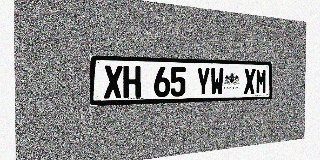5: (171, 67, 186, 97)
6: (154, 66, 170, 97)
H: (123, 66, 141, 98)
M: (256, 69, 267, 94)
W: (210, 68, 224, 96)
X: (104, 65, 122, 99), (244, 68, 255, 95)
Y: (196, 67, 210, 96)
